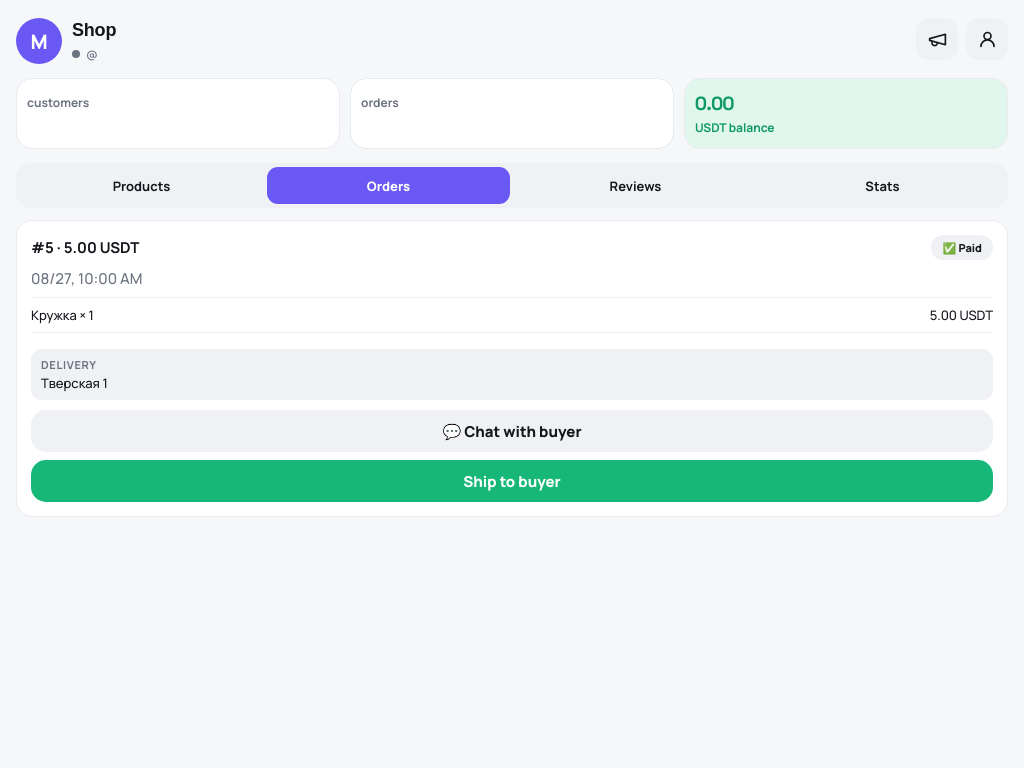
Test case: ShopView — форма отправки заказа › кнопка отправки активна при пустом поле, если есть фото
Click the button with class "fulfill-btn" at coordinates (512, 481), box [31,460,993,502]
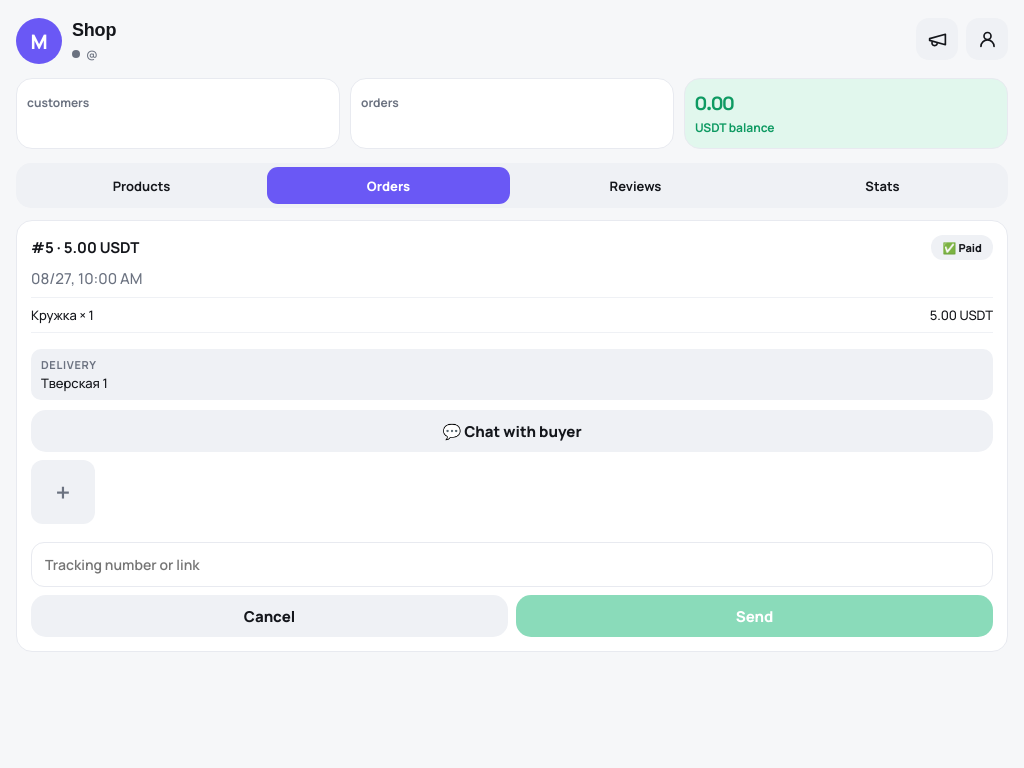
Expected: the button with class "btn-green" is disabled, [516,595,993,637]
